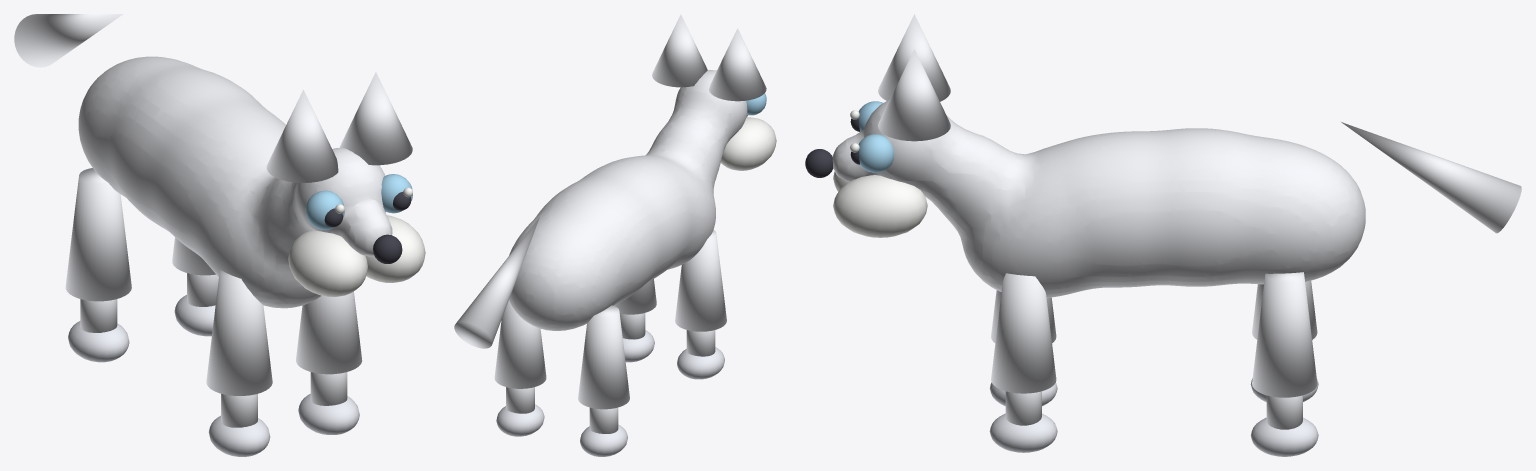
File: Snow Leopard.fbx
3 views of the same model, side by side, from view 1: azimuth 30°, elevation 25°; view 2: azimuth 150°, elevation 25°; view 3: azimuth 270°, elevation 25° (orthographic). The views are drawn at different scales.
Visible parts, largest first — view 1: Snow Leopard; view 2: Snow Leopard; view 3: Snow Leopard.
Boxes of the visible parts, x1,y1,x2,y2 form: Snow Leopard: (14,14,425,456); Snow Leopard: (454,14,776,456); Snow Leopard: (805,14,1521,456).
Bounding box in the file's own units: 154 × 360 × 590.
